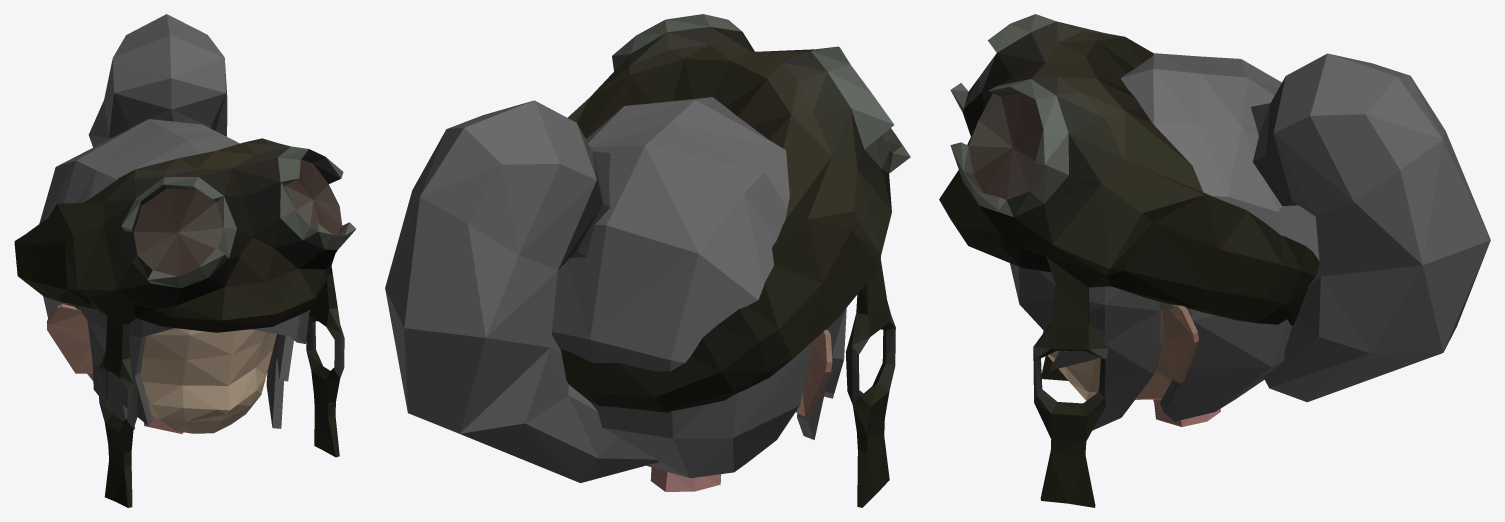
Rendered from helm_lightskin_ponytail_gray_goggles.fbx.
3 renders of one model, left to right at view 1: azimuth 30°, elevation 25°; view 2: azimuth 150°, elevation 25°; view 3: azimuth 270°, elevation 25°, orthographic. The views are drawn at different scales.
Parts seen in each view (by area): view 1: helm_lightskin_ponytail_gray_goggles; view 2: helm_lightskin_ponytail_gray_goggles; view 3: helm_lightskin_ponytail_gray_goggles.
Boxes of the visible parts, x1,y1,x2,y2 form: helm_lightskin_ponytail_gray_goggles: [14, 14, 355, 507]; helm_lightskin_ponytail_gray_goggles: [385, 14, 910, 507]; helm_lightskin_ponytail_gray_goggles: [939, 14, 1490, 507].
Size of the model in its own units: 1.25 by 1.58 by 1.86.
